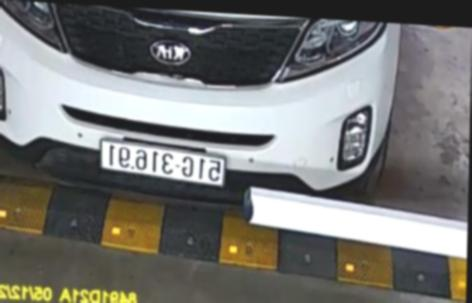License_Plate: (94, 140, 229, 184)
